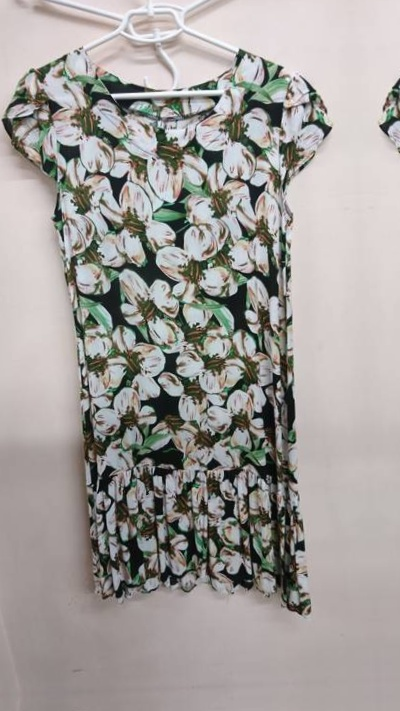Dress: (3, 7, 354, 648), (373, 0, 400, 634)
